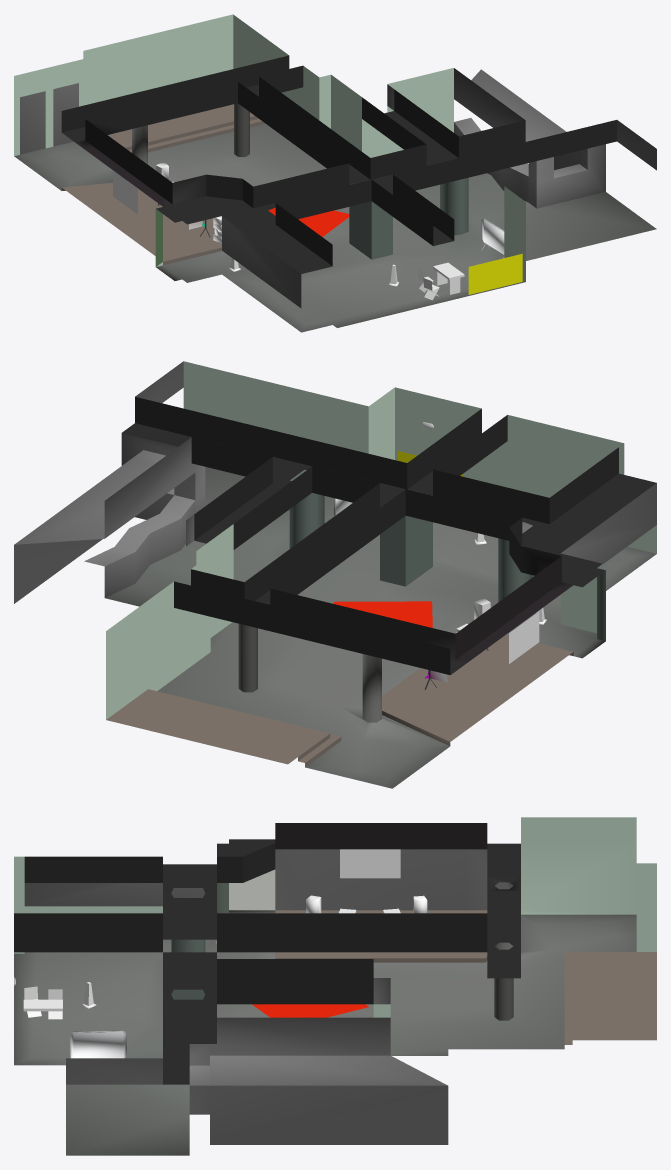
Rendered from MainBarArea.glb.
The picture shows the model from 3 angles, top to bottom: view 1: azimuth 30°, elevation 25°; view 2: azimuth 150°, elevation 25°; view 3: azimuth 270°, elevation 25°; orthographic projection. The views are drawn at different scales.
Parts seen in each view (by area): view 1: ROOM, Plane, DECAL, PANEL, Barrier, FRONTDESK; view 2: ROOM, DECAL, PANEL; view 3: ROOM, PANEL, Barrier, DECAL, FRONTDESK.
Part boxes in pixels (x1,y1,x2,y2): ROOM: [14, 14, 656, 332]; Plane: [468, 253, 522, 294]; DECAL: [268, 207, 349, 236]; PANEL: [113, 171, 137, 214]; Barrier: [481, 218, 504, 258]; FRONTDESK: [433, 262, 464, 294]; ROOM: [14, 361, 656, 788]; DECAL: [334, 601, 432, 627]; PANEL: [509, 611, 539, 663]; ROOM: [14, 817, 656, 1155]; PANEL: [340, 849, 400, 878]; Barrier: [70, 1030, 126, 1058]; DECAL: [252, 1004, 368, 1017]; FRONTDESK: [23, 999, 62, 1011].
Size of the model in its own units: 20.29 by 3.75 by 22.48.
